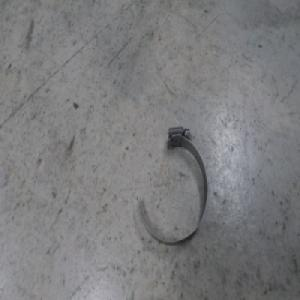AdjustableClamp: (137, 126, 208, 246)
